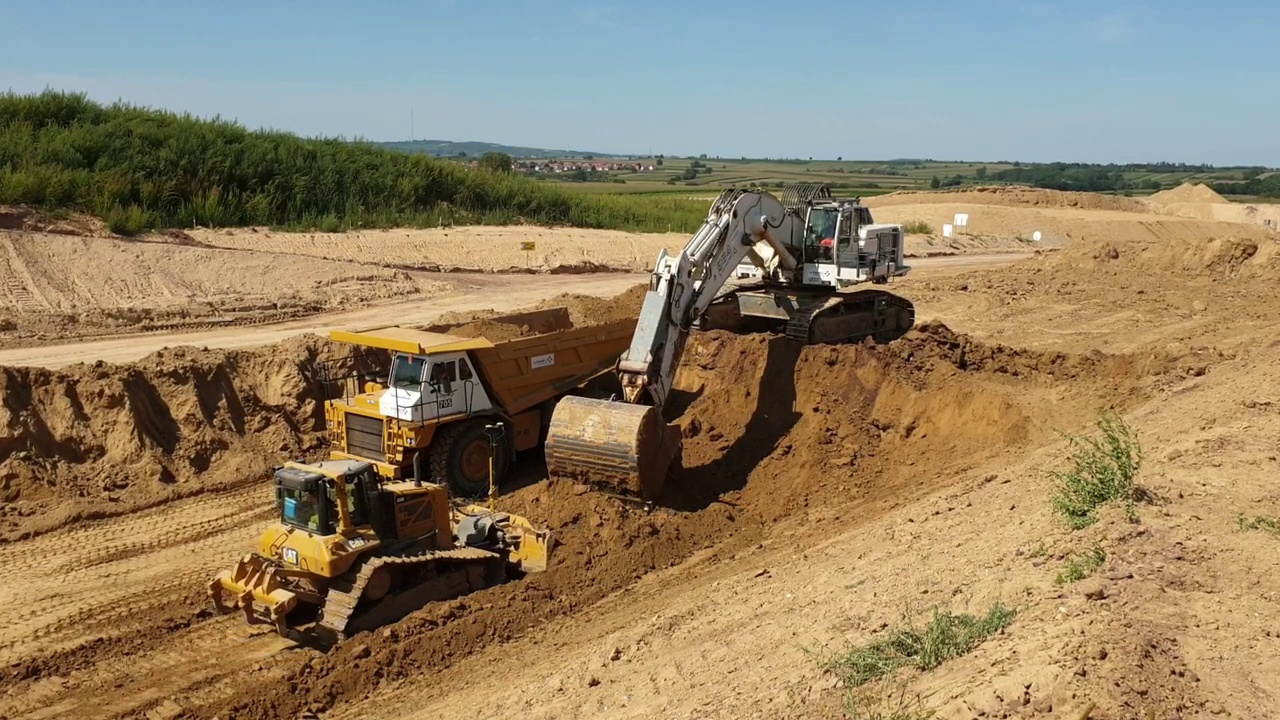bulldozer: (204, 416, 561, 667)
excavator: (545, 176, 923, 496)
truck: (311, 302, 674, 509)
